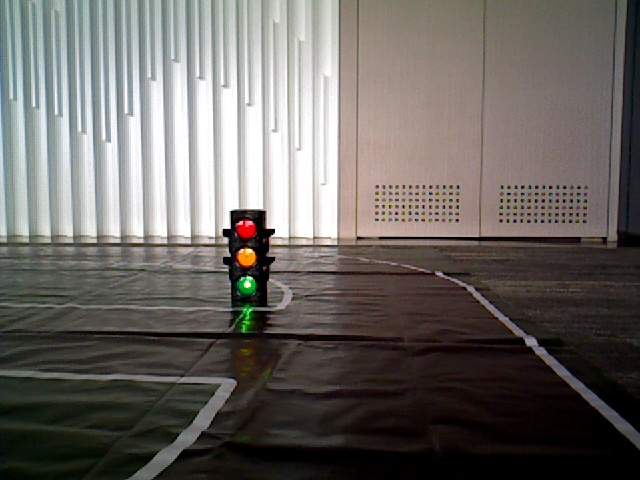green: (233, 213, 262, 297)
